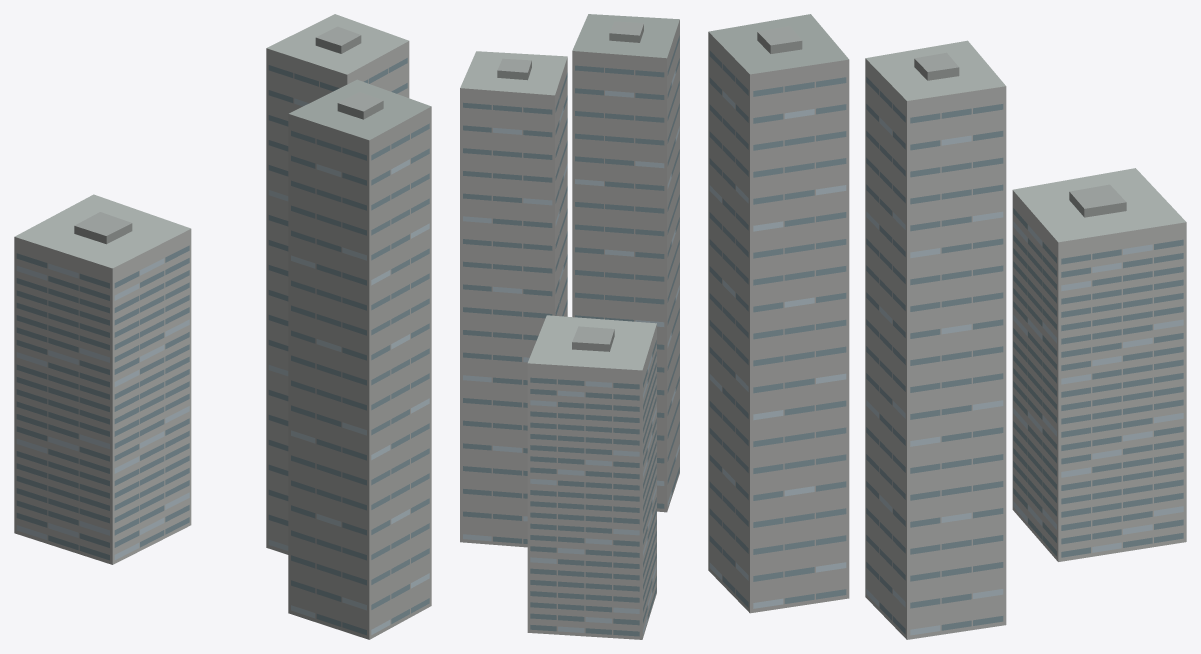
File: apt-a10023389.glb
3 views of the same model, side by side, from view 1: azimuth 30°, elevation 25°; view 2: azimuth 150°, elevation 25°; view 3: azimuth 270°, elevation 25° (orthographic). The views are drawn at different scales.
Visible parts, largest first — view 1: apt-a10023389; view 2: apt-a10023389; view 3: apt-a10023389.
Part boxes in pixels (x1=…): apt-a10023389: x1=14, y1=14, x2=431, y2=639; apt-a10023389: x1=460, y1=14, x2=679, y2=639; apt-a10023389: x1=708, y1=14, x2=1186, y2=639.
Size of the model in its own units: 89.33 by 150 by 119.
